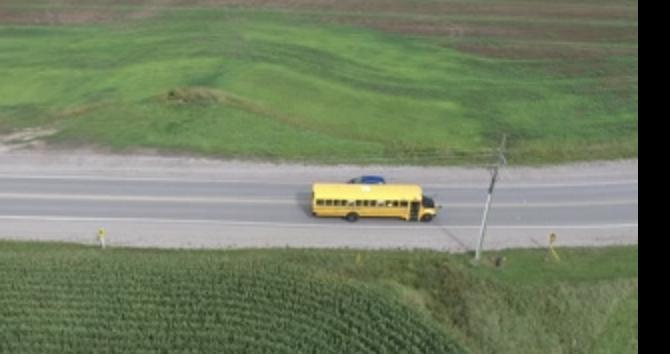Bus: (310, 183, 438, 221)
Car: (350, 175, 389, 184)
